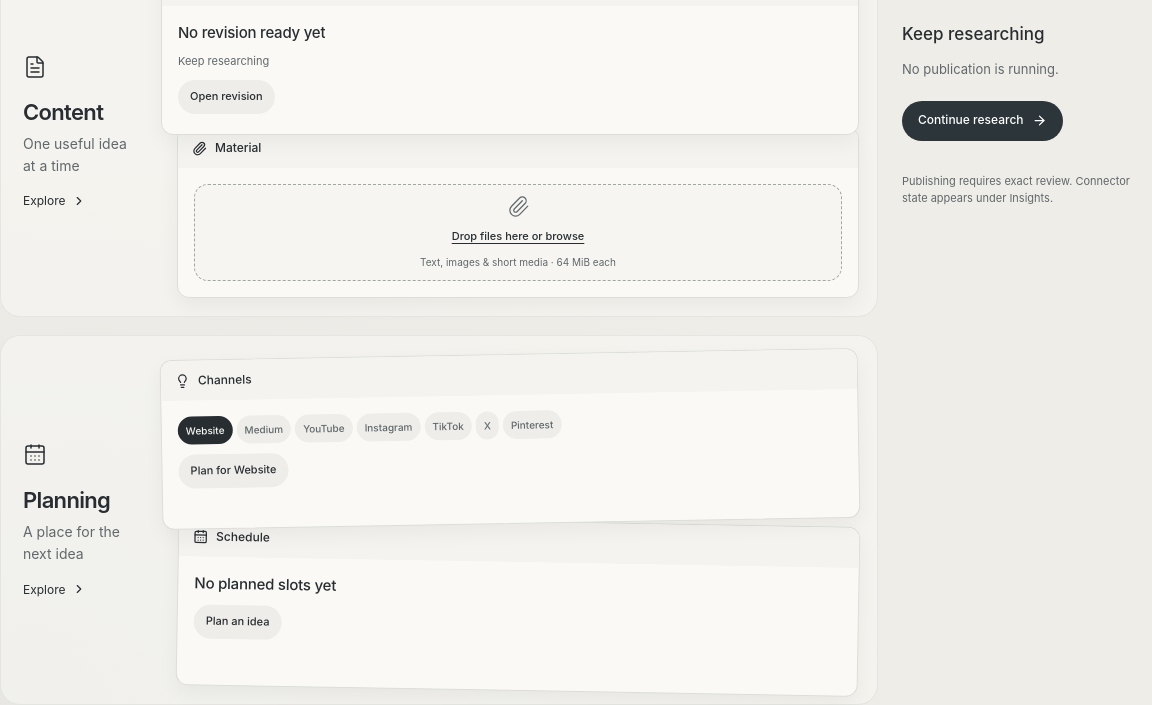
it: contextual studio interactions with the real API client › shows a weekly source hypothesis and applies its audience without starting work
The image size is (1152, 705).
(page scrolled)
Click the button "Planning A place for the next idea Explore" at (84, 520), box 19,443 -> 149,597
(page scrolled)
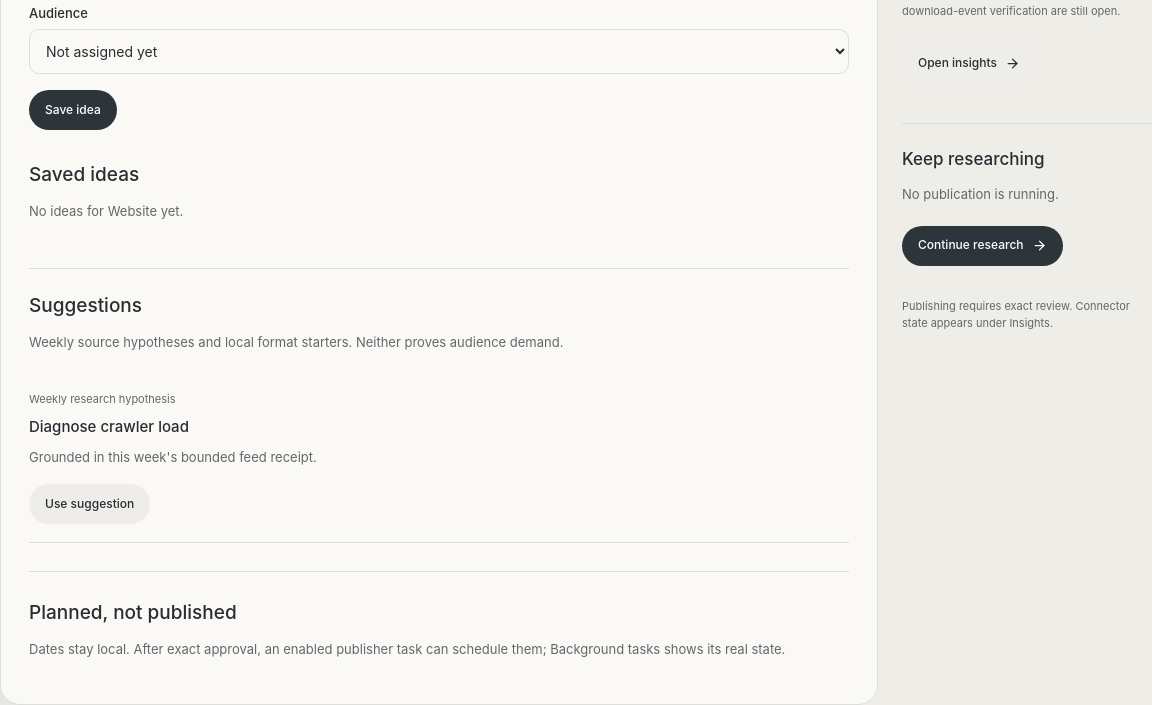
Result: the text "Weekly research hypothesis" is shown at 29,392 -> 176,406
Click the button "Use suggestion" at (90, 504), box 29,484 -> 150,524
(page scrolled)
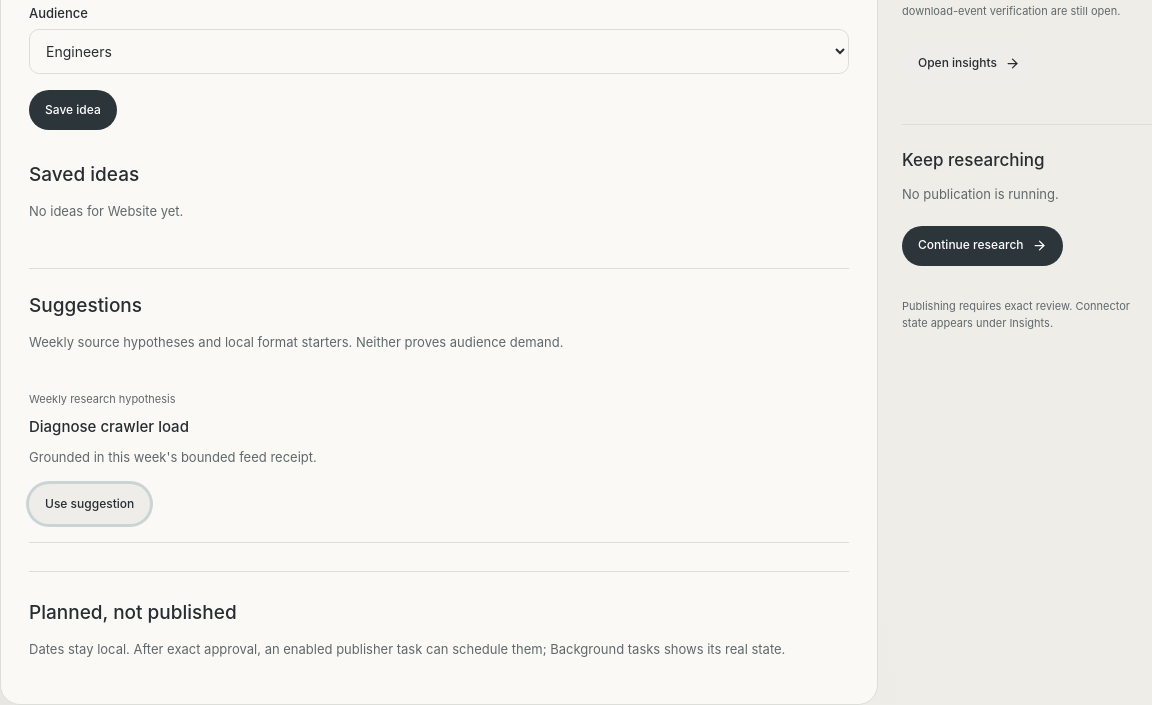
Result: the dropdown labelled "Audience" shows "Engineers" at 29,29 -> 849,74
